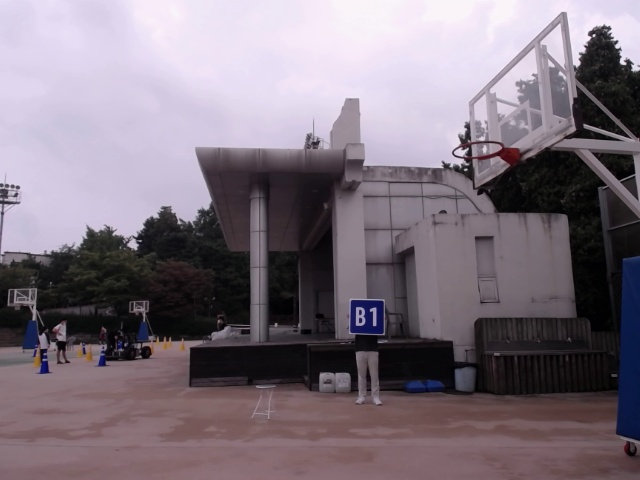delivery_b1: (349, 298, 385, 335)
